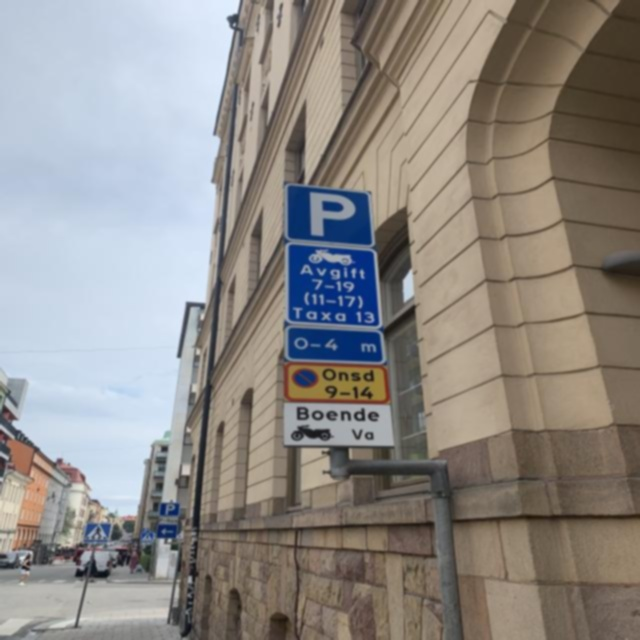P-skylt: (283, 182, 379, 249)
